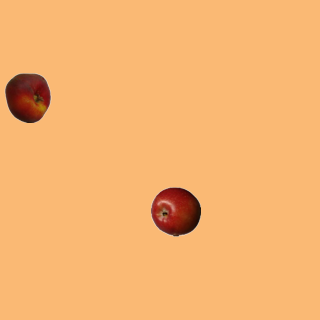Apple Braeburn: (150, 186, 200, 236)
Nectarine Flat: (2, 72, 52, 122)
